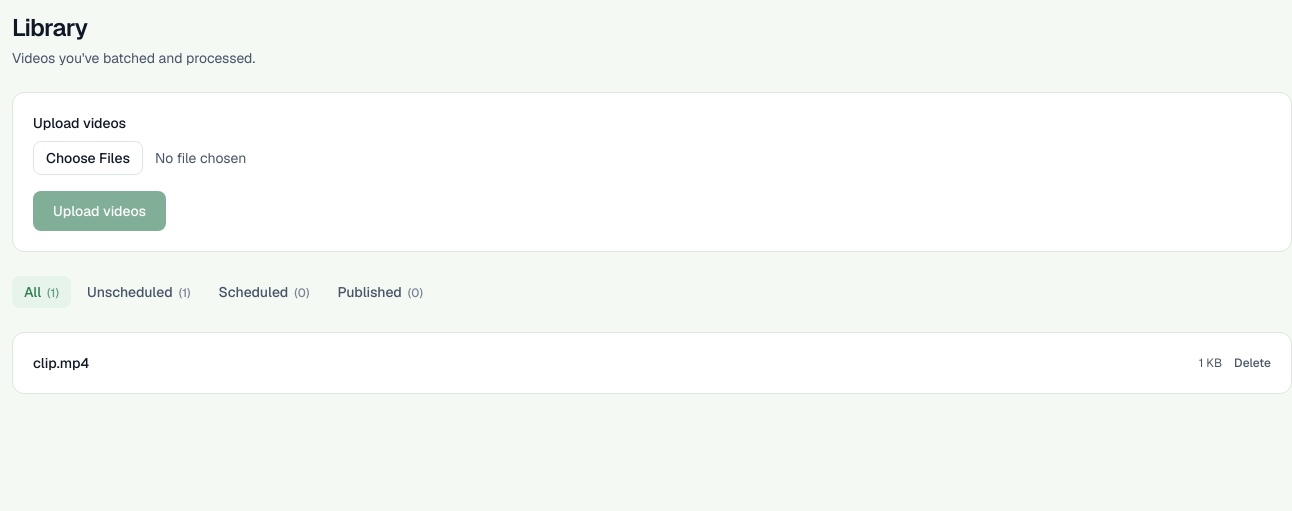
Test: LibraryPage › Library filter tabs › shows an empty state when no videos match the active filter
expect the text "clip.mp4" is shown: met, box [33,353,89,373]
Click the tab "Scheduled(0)".
click(264, 292)  # box [206,276,321,308]
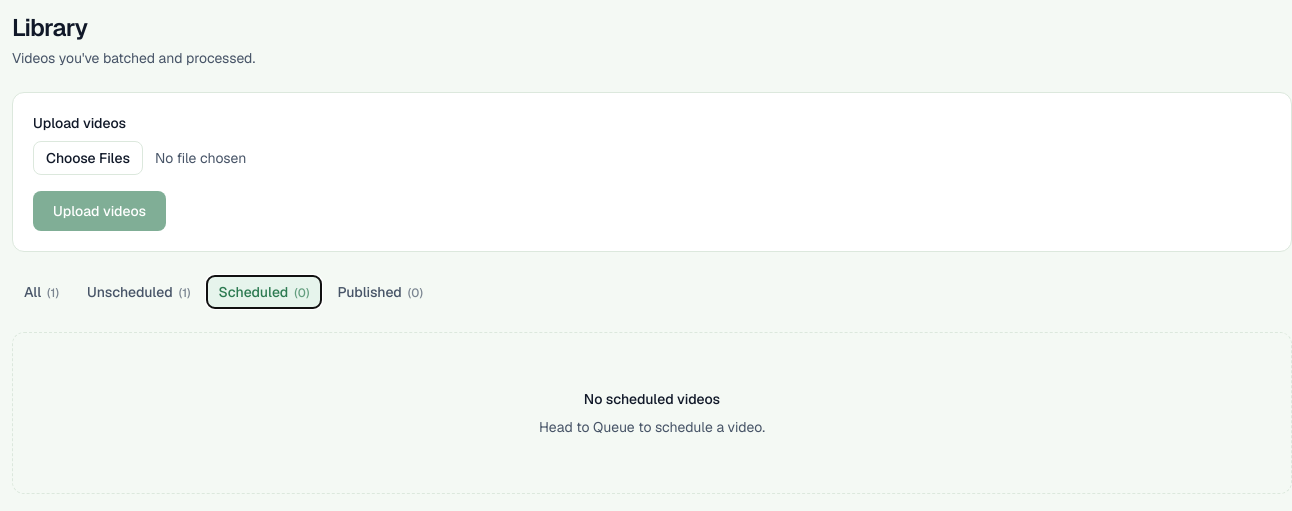
expect the text "No scheduled videos" is shown: met, box [584,389,720,409]
expect the text "clip.mp4" is gone: met
Click the tab "Published(0)".
click(380, 292)  # box [325,276,435,308]
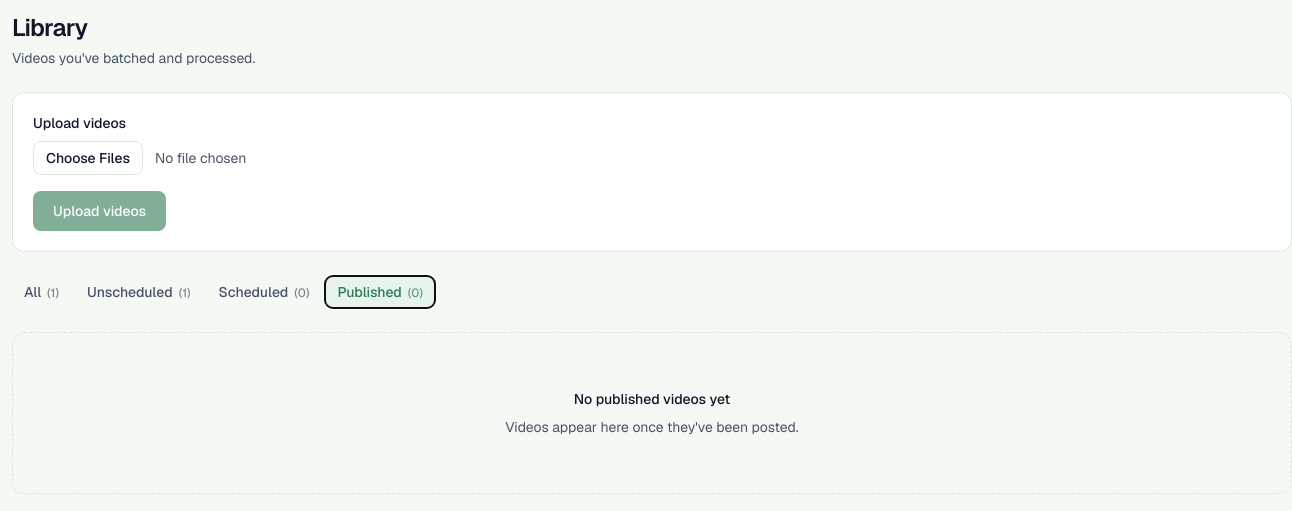
expect the text "No published videos yet" is shown: met, box [574,389,730,409]
